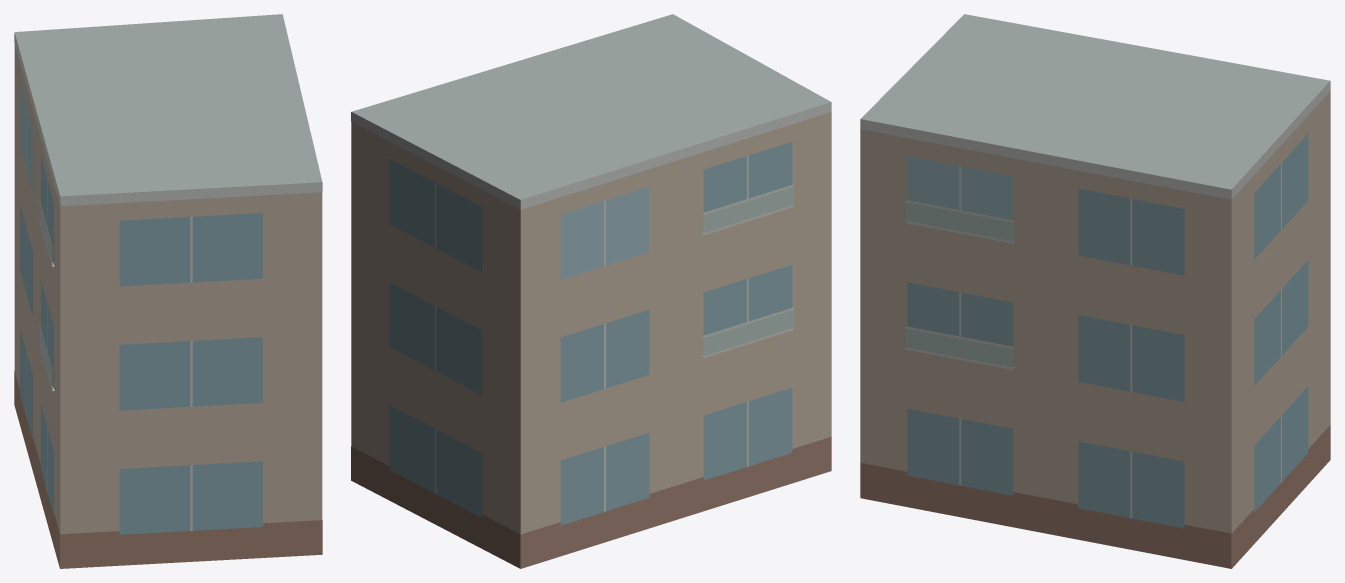
The model's file is survey-upis-33036105.glb.
3 renders of one model, left to right at view 1: azimuth 30°, elevation 25°; view 2: azimuth 150°, elevation 25°; view 3: azimuth 270°, elevation 25°, orthographic. The views are drawn at different scales.
Parts seen in each view (by area): view 1: survey-upis-33036105.tmp; view 2: survey-upis-33036105.tmp; view 3: survey-upis-33036105.tmp.
Part boxes in pixels (bbox=[...]): survey-upis-33036105.tmp: bbox=[14, 14, 322, 568]; survey-upis-33036105.tmp: bbox=[351, 14, 831, 568]; survey-upis-33036105.tmp: bbox=[860, 14, 1330, 568].
Size of the model in its own units: 9.11 by 9.15 by 10.29.
